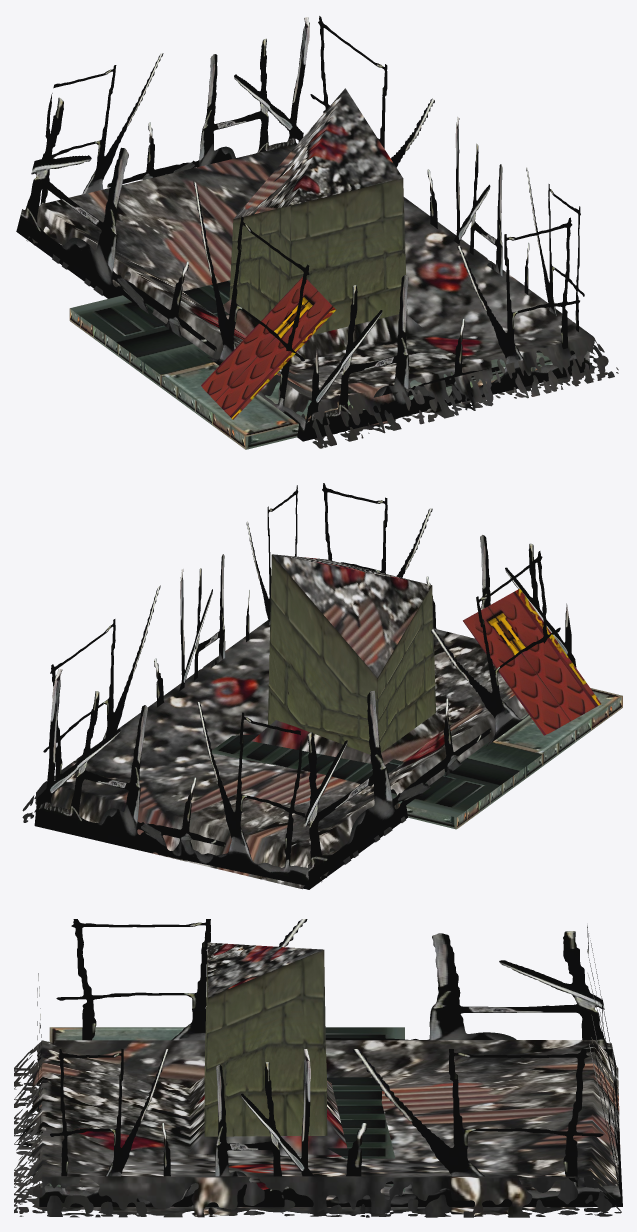
Rendered from l_residenceleft_dam_hdtex.glb.
The picture shows the model from 3 angles, top to bottom: view 1: azimuth 30°, elevation 25°; view 2: azimuth 150°, elevation 25°; view 3: azimuth 270°, elevation 25°; orthographic projection. The views are drawn at different scales.
Parts seen in each view (by area): view 1: Box01; view 2: Box01; view 3: Box01.
Part boxes in pixels (x1,y1,x2,y2): Box01: (16, 16, 618, 449); Box01: (22, 483, 622, 889); Box01: (14, 919, 622, 1217).
Size of the model in its own units: 20.91 by 11.32 by 30.26.
Materials: 5 (5 with a texture image).
